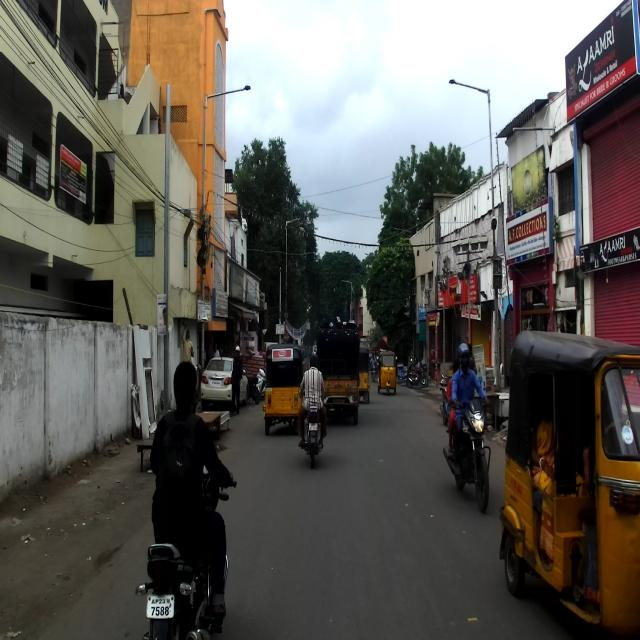autorickshaw: (500, 330, 640, 640)
motorcycle_Hero: (298, 387, 326, 467)
motorcycle_Honda: (444, 395, 491, 517)
motorcycle_bajaj: (133, 463, 237, 637)
truck: (316, 319, 360, 423)
